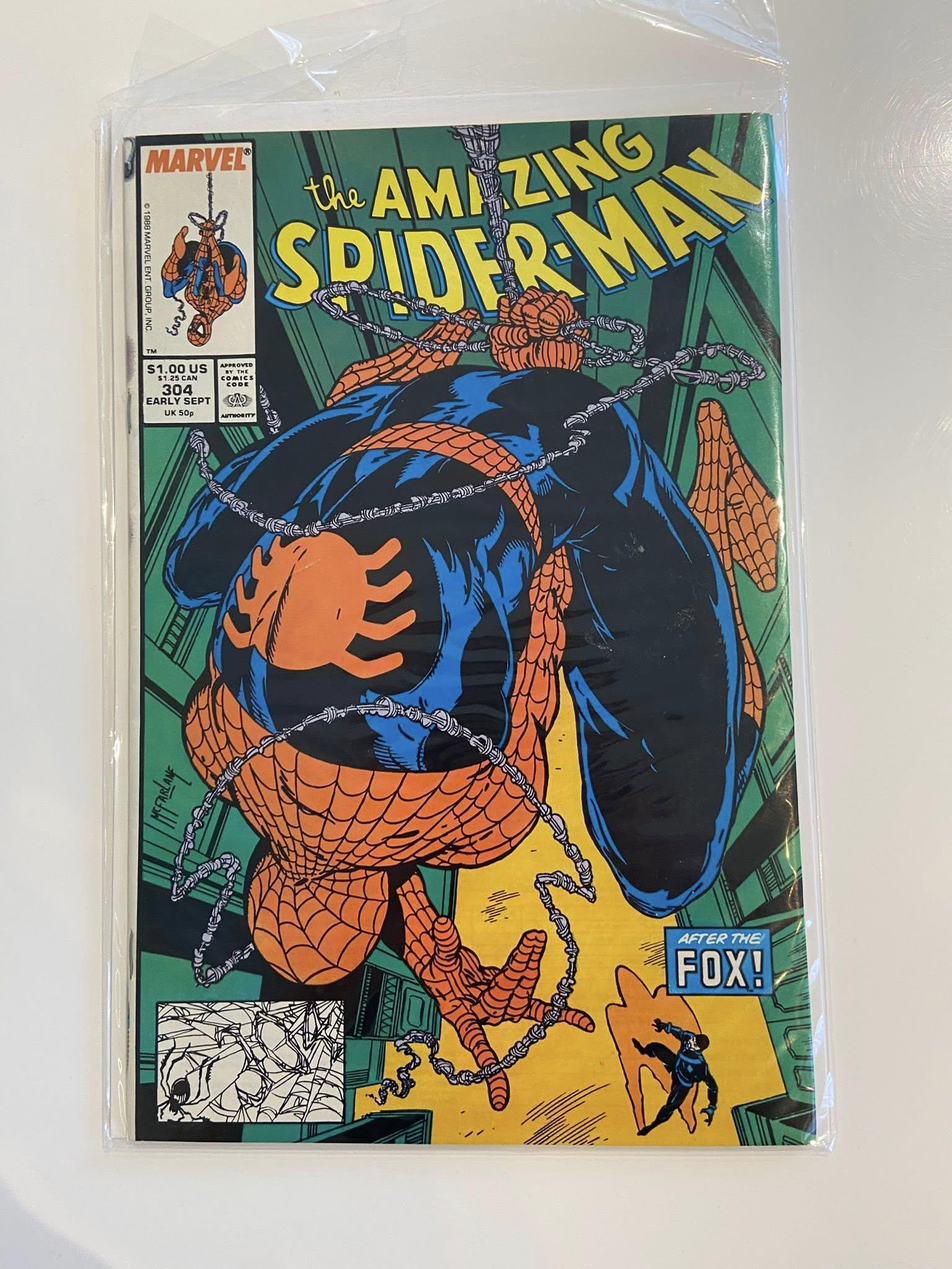comic: (104, 113, 817, 1162)
